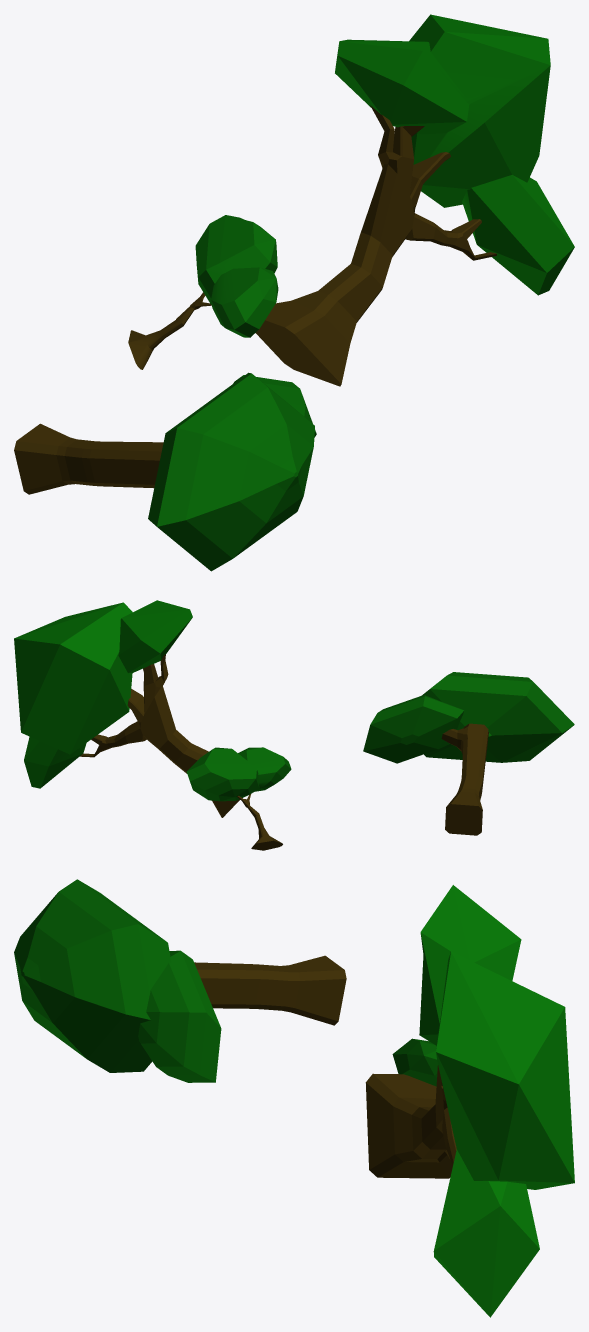
The model's file is CollapsedTreesSmall.fbx.
3 renders of one model, top to bottom at view 1: azimuth 30°, elevation 25°; view 2: azimuth 150°, elevation 25°; view 3: azimuth 270°, elevation 25°, orthographic. The views are drawn at different scales.
Parts seen in each view (by area): view 1: CollapsedTreesSmall; view 2: CollapsedTreesSmall; view 3: CollapsedTreesSmall.
Part boxes in pixels (box(x1,y1,x2,y2)): CollapsedTreesSmall: box(14, 14, 574, 571); CollapsedTreesSmall: box(14, 600, 574, 850); CollapsedTreesSmall: box(14, 879, 574, 1317).
Bounding box in the file's own units: 2591 × 1250 × 1976.
